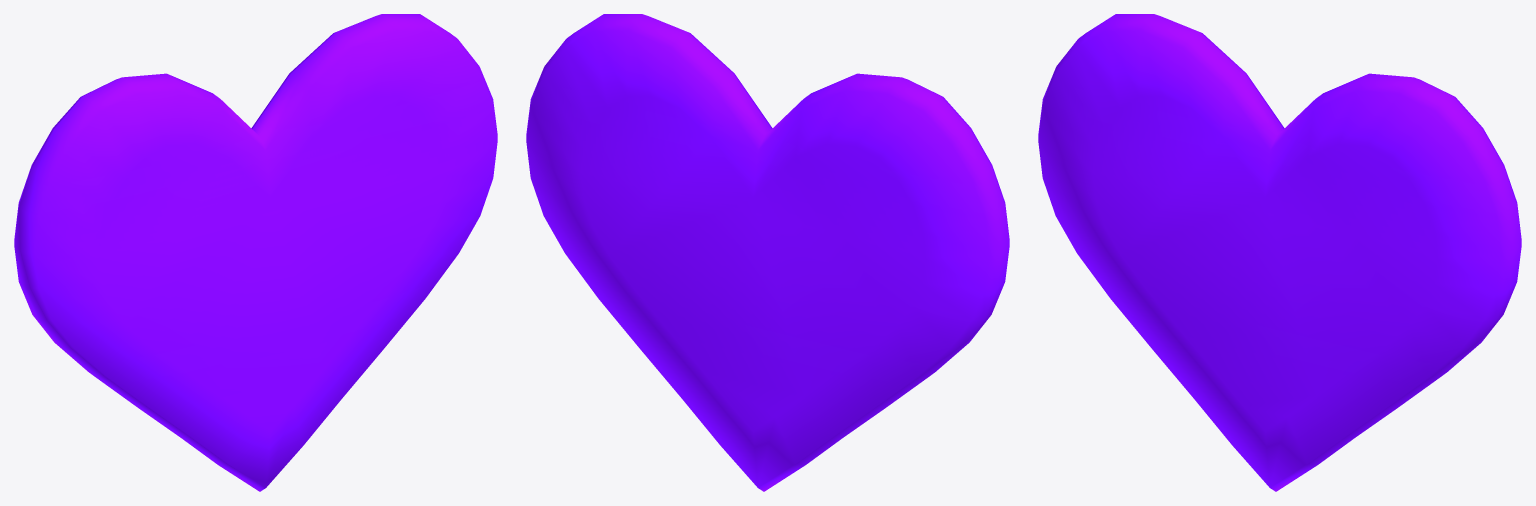
3 views of the same model, side by side, from view 1: azimuth 30°, elevation 25°; view 2: azimuth 150°, elevation 25°; view 3: azimuth 330°, elevation 25° (orthographic).
Visible parts, largest first — view 1: IndicatorHeartPurple; view 2: IndicatorHeartPurple; view 3: IndicatorHeartPurple.
Part boxes in pixels (x1=…): IndicatorHeartPurple: x1=14, y1=14, x2=497, y2=491; IndicatorHeartPurple: x1=526, y1=14, x2=1009, y2=491; IndicatorHeartPurple: x1=1038, y1=14, x2=1521, y2=491.
Bounding box in the file's own units: 0.5424 × 0.4801 × 0.0583.
Materials: 1 (1 with a texture image).
